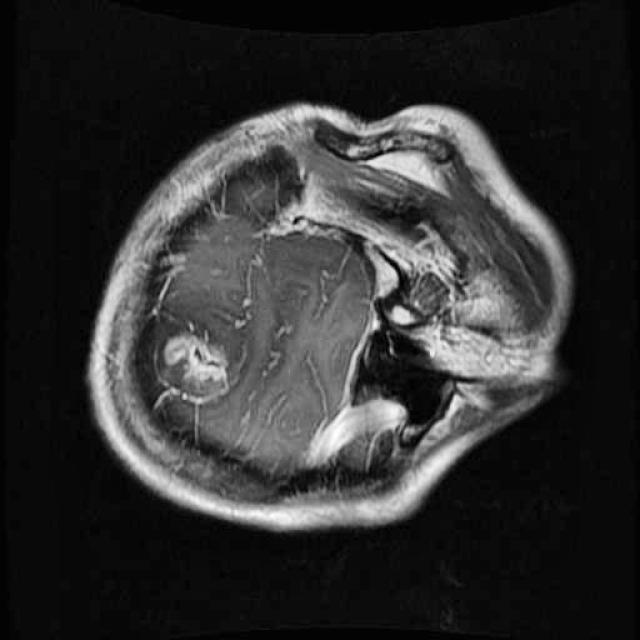Non-Tumor: (134, 308, 256, 426)
